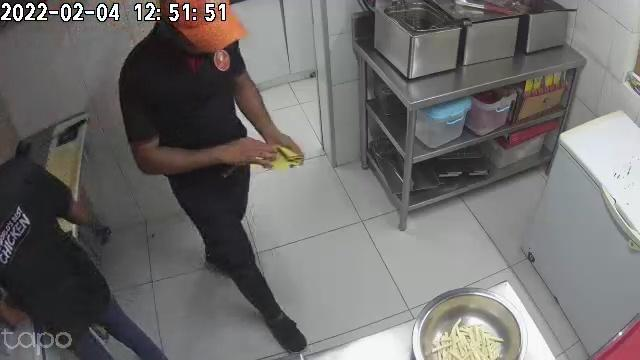no_gloves: (204, 141, 274, 170)
